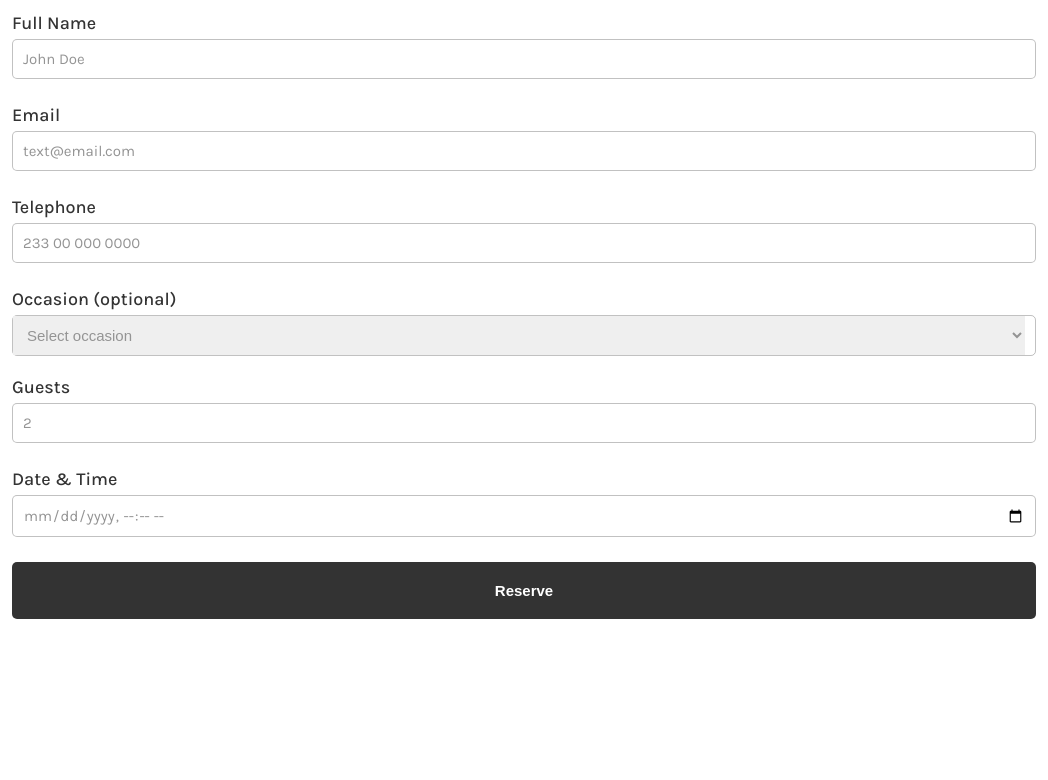
Test: Form Component › shows validation error for invalid email format
In the field labelled "Email": (524, 151) left=12, top=131, right=1036, bottom=171, type "invalid-email"
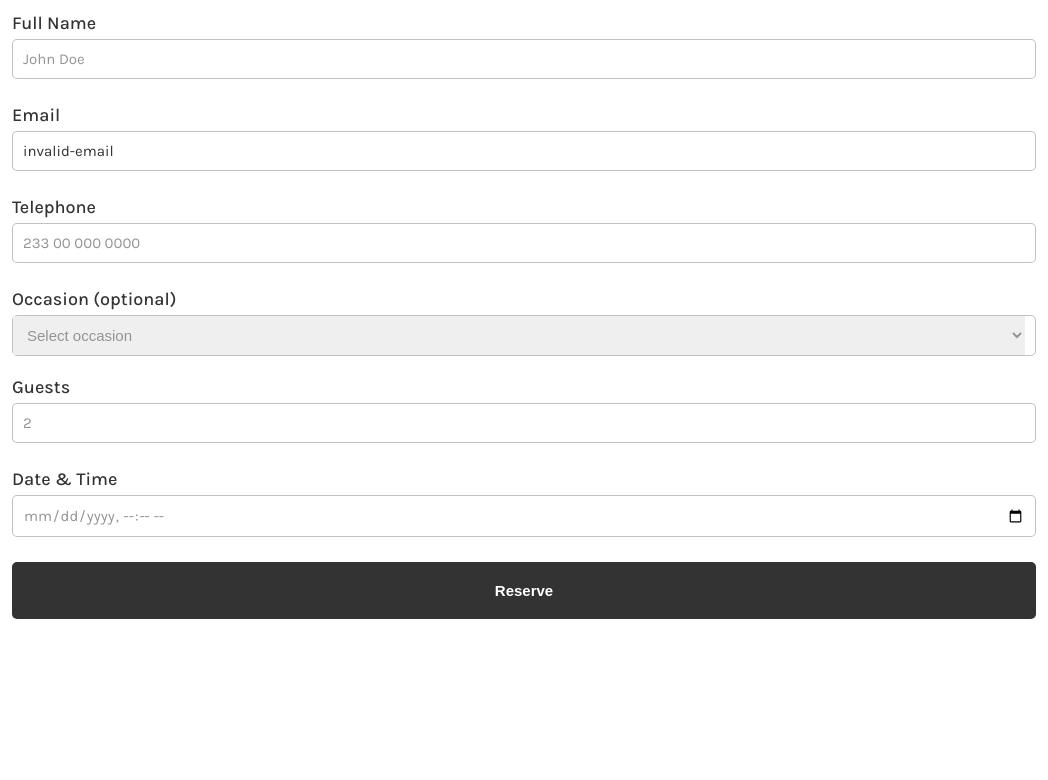
Click the button "Reserve": (524, 590) left=12, top=562, right=1036, bottom=619
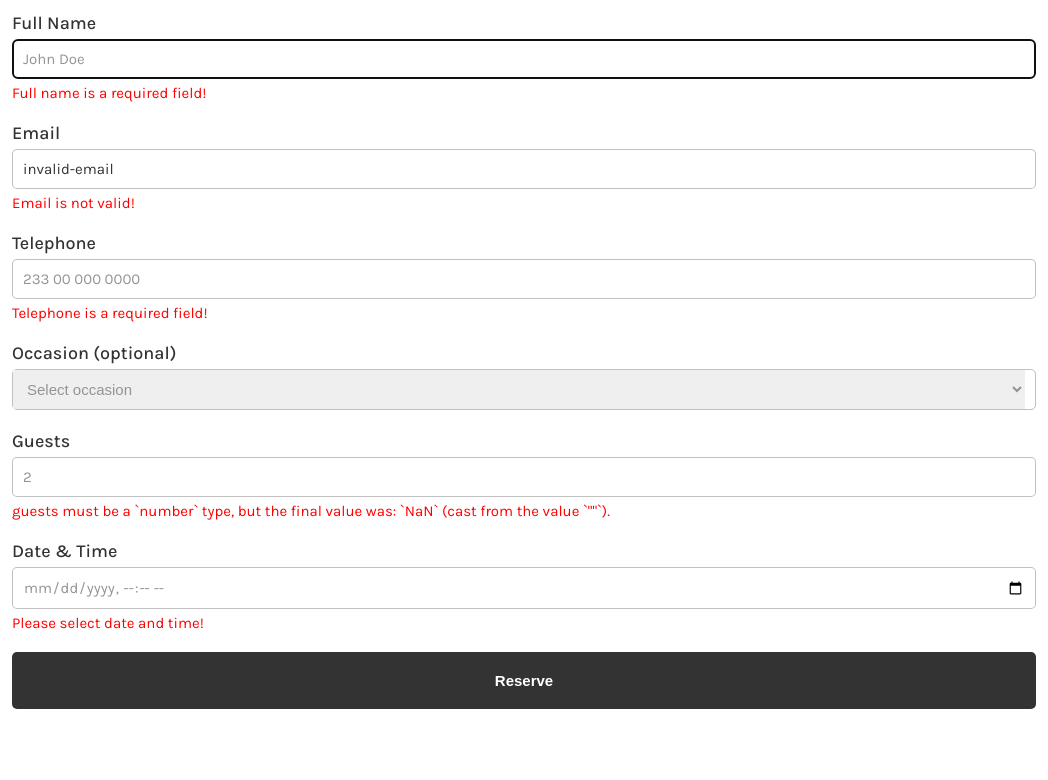
Expected: the text "Email is not valid!" is shown, left=12, top=194, right=135, bottom=212
